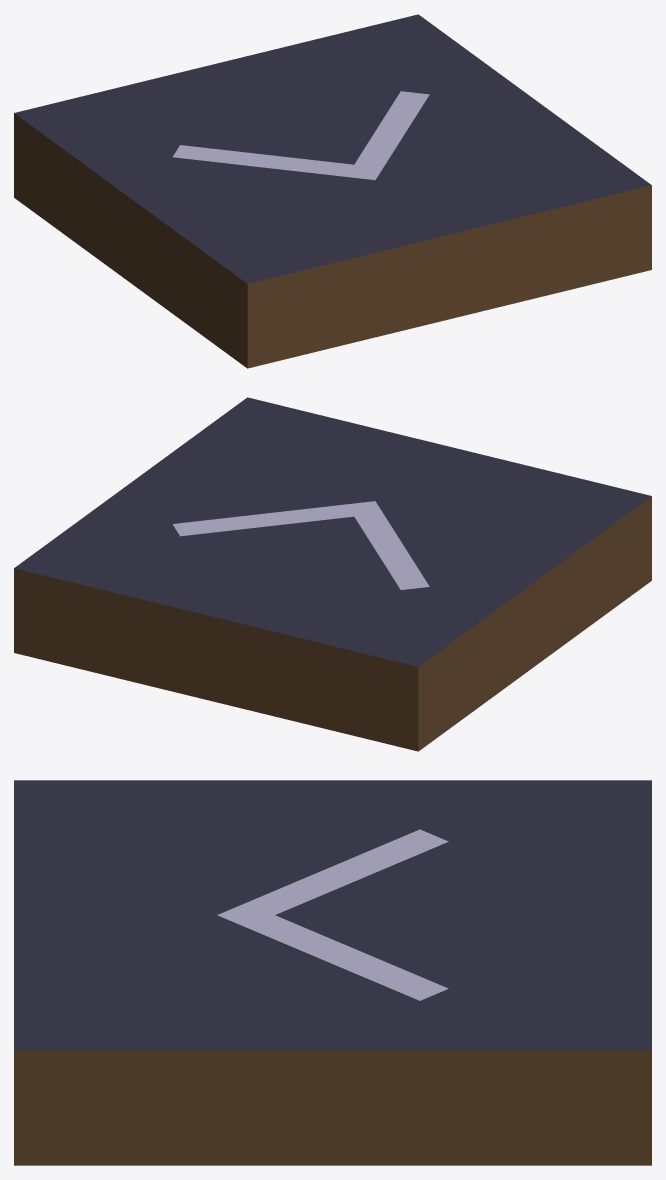
Rendered from road_1_arrow_1.fbx.
The picture shows the model from 3 angles, top to bottom: view 1: azimuth 30°, elevation 25°; view 2: azimuth 150°, elevation 25°; view 3: azimuth 270°, elevation 25°; orthographic projection. The views are drawn at different scales.
Visible parts, largest first — view 1: Cube.050; view 2: Cube.050; view 3: Cube.050.
Boxes of the visible parts, box(x1,y1,x2,y2) form: Cube.050: box(14, 14, 651, 368); Cube.050: box(14, 397, 651, 751); Cube.050: box(14, 780, 651, 1165).
Size of the model in its own units: 1000 by 200 by 1000.
Materials: 1 (1 with a texture image).
